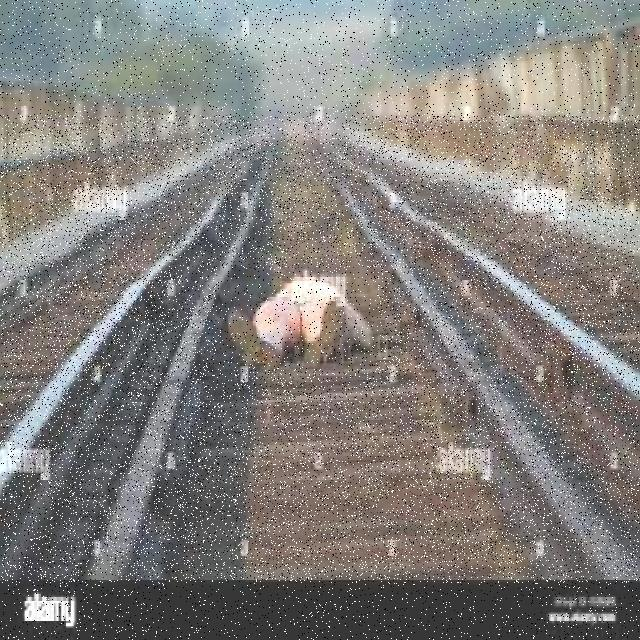danger: (218, 268, 378, 369)
rail: (1, 116, 639, 583)
